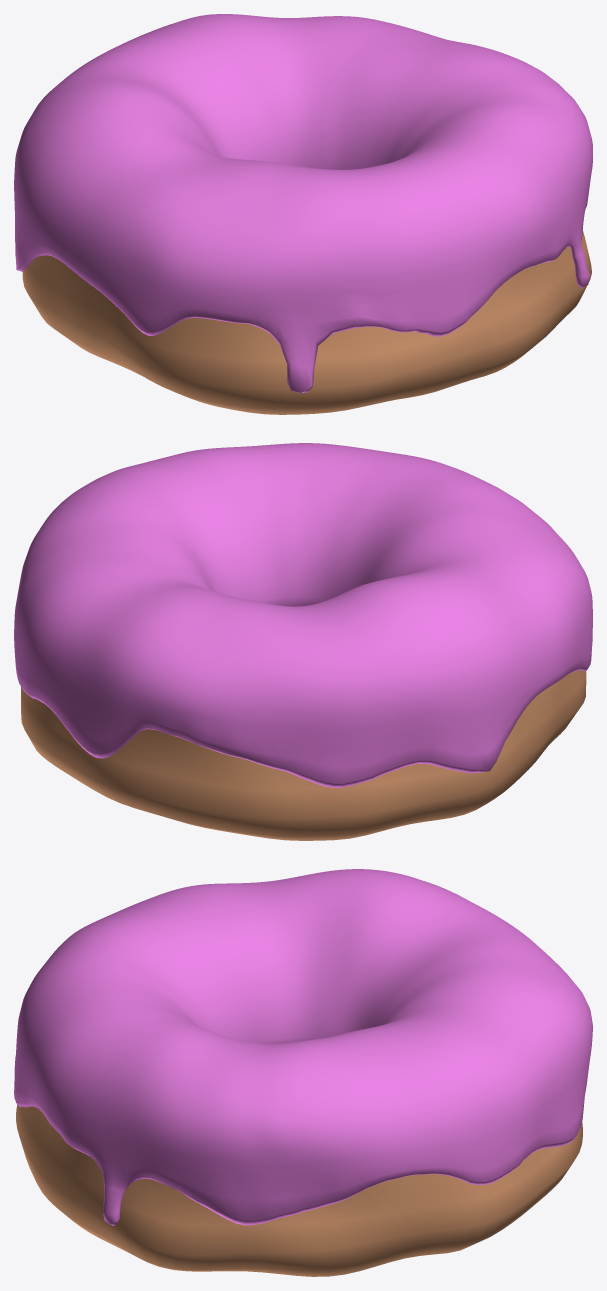
The model's file is donut.glb.
The picture shows the model from 3 angles, top to bottom: view 1: azimuth 30°, elevation 25°; view 2: azimuth 150°, elevation 25°; view 3: azimuth 270°, elevation 25°; orthographic projection.
Parts seen in each view (by area): view 1: Icing, Donut; view 2: Icing, Donut; view 3: Icing, Donut.
Boxes of the visible parts, x1=… form: Icing: x1=14, y1=14, x2=592, y2=392; Donut: x1=22, y1=230, x2=591, y2=414; Icing: x1=14, y1=443, x2=592, y2=787; Donut: x1=21, y1=670, x2=586, y2=840; Icing: x1=14, y1=869, x2=592, y2=1225; Donut: x1=16, y1=1104, x2=582, y2=1276.
Size of what is drawn, in the model's own units: 0.1031 by 0.0465 by 0.1032.
